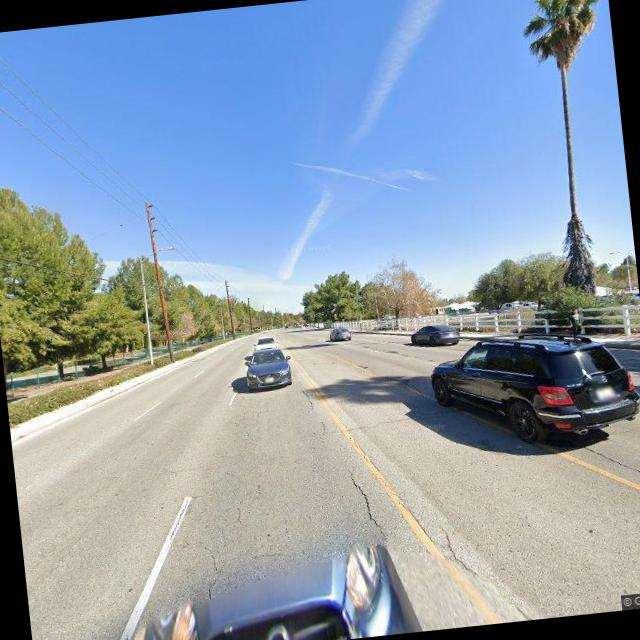crack: (191, 495, 256, 598), (569, 430, 640, 492), (344, 466, 386, 544), (434, 518, 476, 578), (336, 412, 412, 434), (167, 494, 194, 538), (296, 384, 314, 414)
